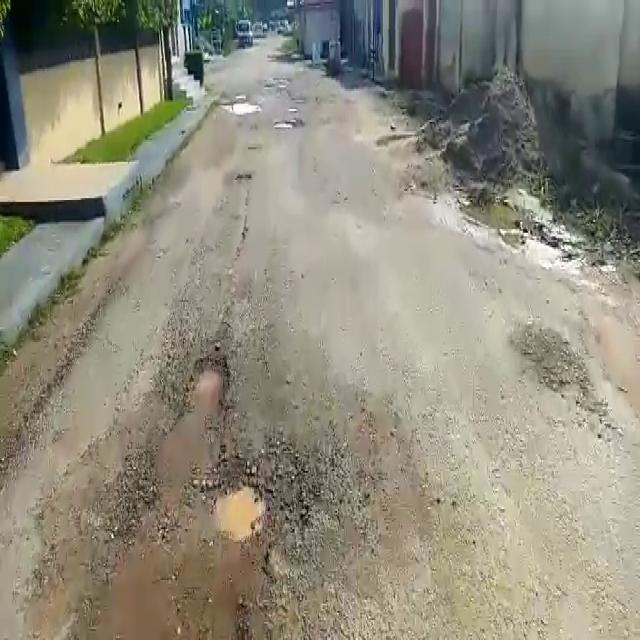Pothole: (213, 484, 269, 539), (184, 355, 232, 413), (215, 100, 261, 115)
